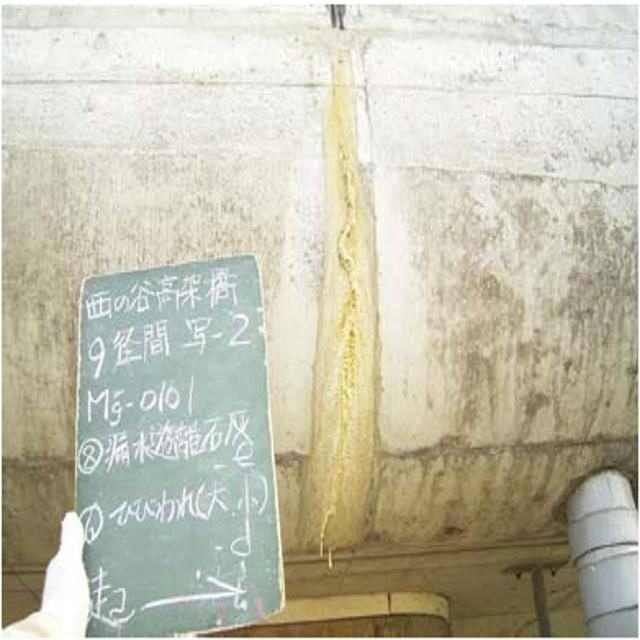freelime: (306, 61, 373, 562)
